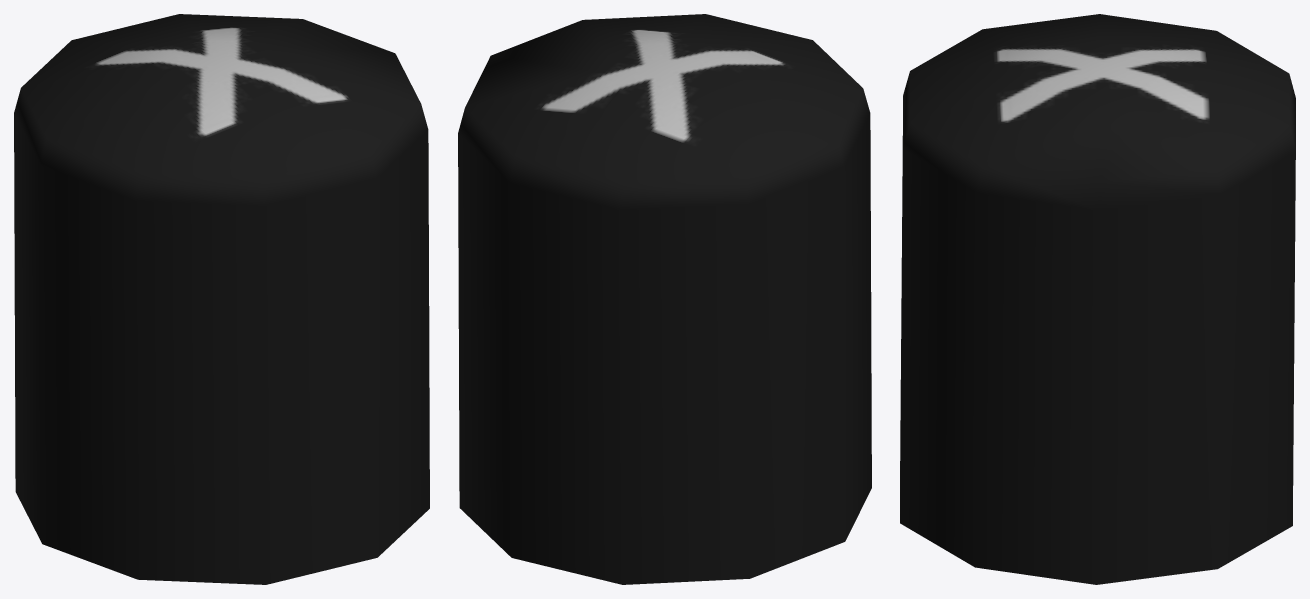
The model's file is crystal_controller_left_button2.obj.
3 views of the same model, side by side, from view 1: azimuth 30°, elevation 25°; view 2: azimuth 150°, elevation 25°; view 3: azimuth 270°, elevation 25° (orthographic).
Visible parts, largest first — view 1: crystal_controller_left_button2; view 2: crystal_controller_left_button2; view 3: crystal_controller_left_button2.
Boxes of the visible parts, x1,y1,x2,y2 form: crystal_controller_left_button2: [14, 14, 429, 584]; crystal_controller_left_button2: [458, 14, 871, 584]; crystal_controller_left_button2: [900, 14, 1295, 584].
Size of the model in its own units: 0.00983 by 0.0113 by 0.00942.
Materials: 1 (1 with a texture image).
